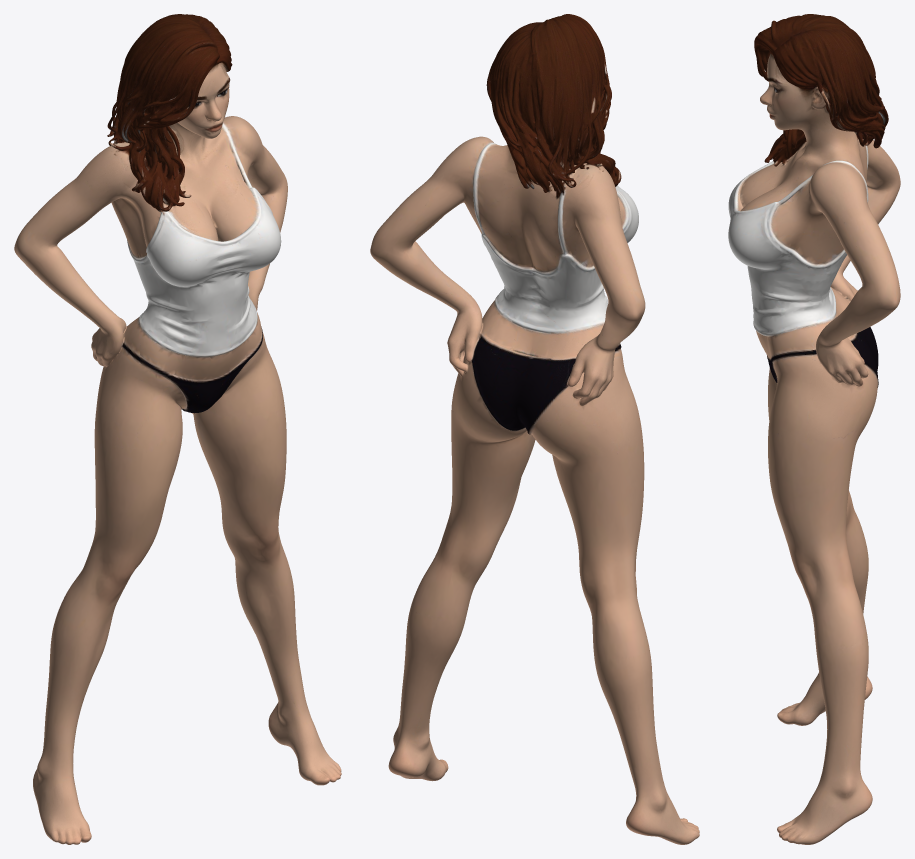
Rendered from tank-top-woman.glb.
3 views of the same model, side by side, from view 1: azimuth 30°, elevation 25°; view 2: azimuth 150°, elevation 25°; view 3: azimuth 270°, elevation 25° (orthographic). The views are drawn at different scales.
Visible parts, largest first — view 1: Resize; view 2: Resize; view 3: Resize.
Boxes of the visible parts, bbox=[...] form: Resize: bbox=[14, 14, 341, 844]; Resize: bbox=[370, 14, 699, 844]; Resize: bbox=[728, 14, 900, 844].
Bounding box in the file's own units: 0.6577 × 1.71 × 0.3521.
Materials: 1 (1 with a texture image).
